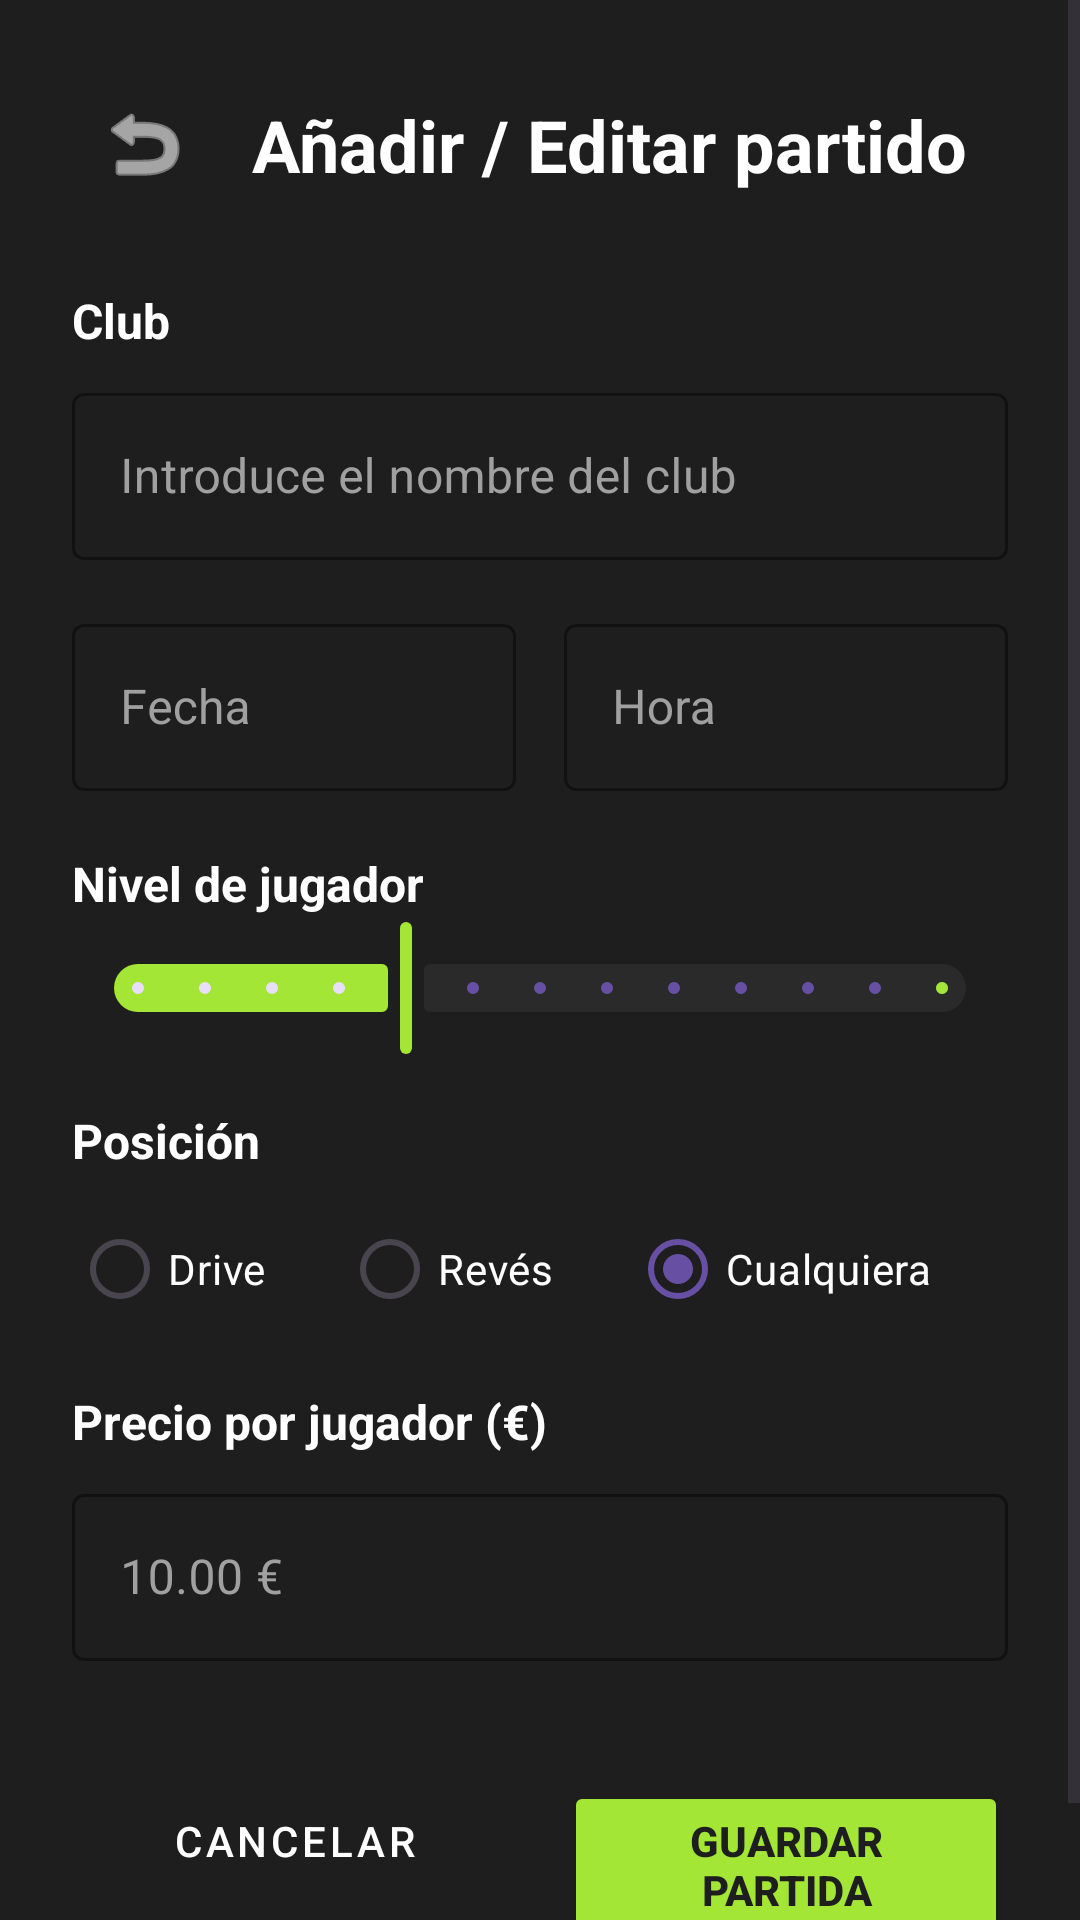

Where to tap for icons on this 1080*1920 app screen, as (x,y):
Volver atras: (145,144)
